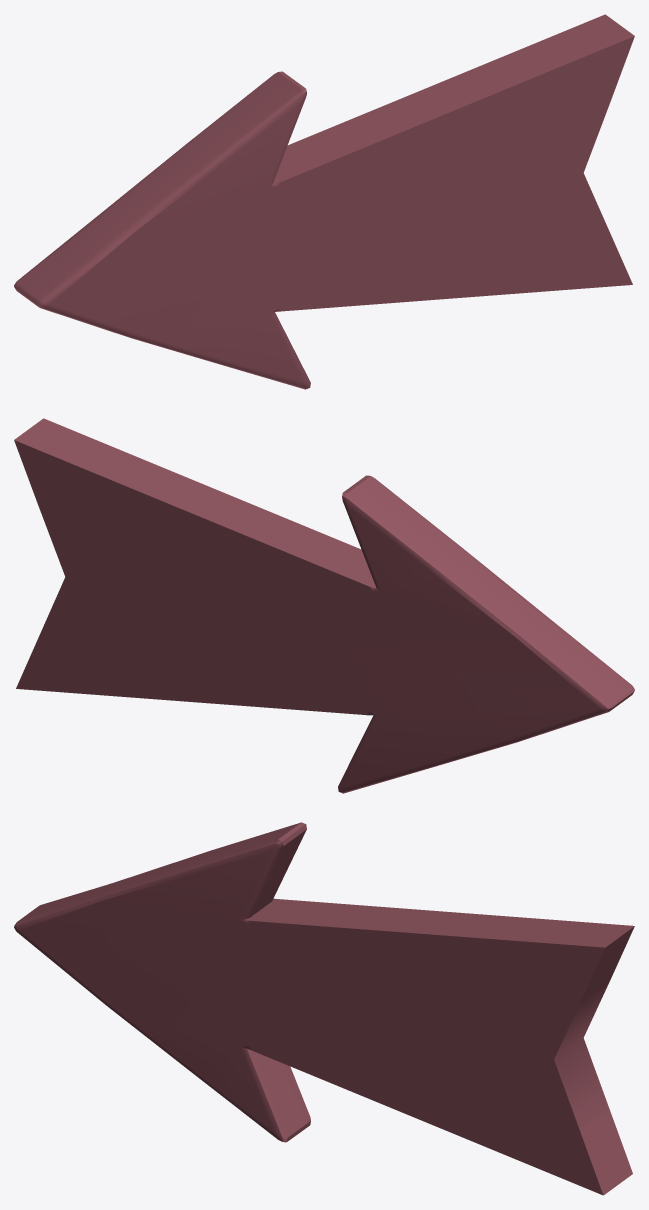
The model's file is ArrowPointer.fbx.
3 renders of one model, top to bottom at view 1: azimuth 30°, elevation 25°; view 2: azimuth 150°, elevation 25°; view 3: azimuth 330°, elevation 25°, orthographic.
Visible parts, largest first — view 1: pCube5; view 2: pCube5; view 3: pCube5.
Part boxes in pixels (x1=…): pCube5: x1=14, y1=14, x2=634, y2=389; pCube5: x1=14, y1=418, x2=634, y2=793; pCube5: x1=14, y1=822, x2=634, y2=1195.
Size of the model in its own units: 12.04 by 5.84 by 1.04.
